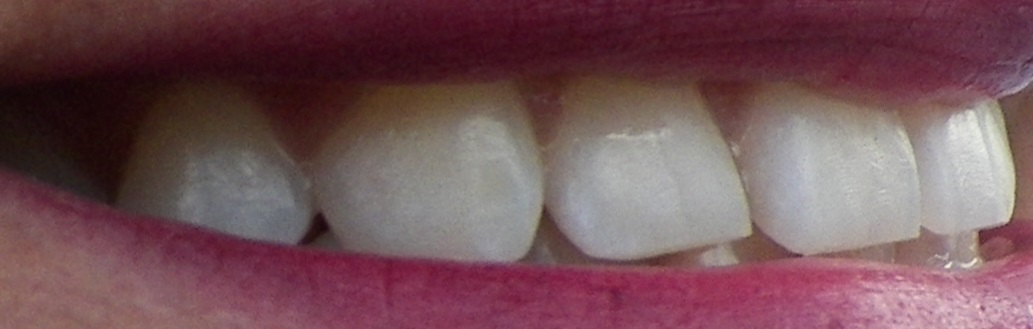boca: (90, 52, 1019, 275)
